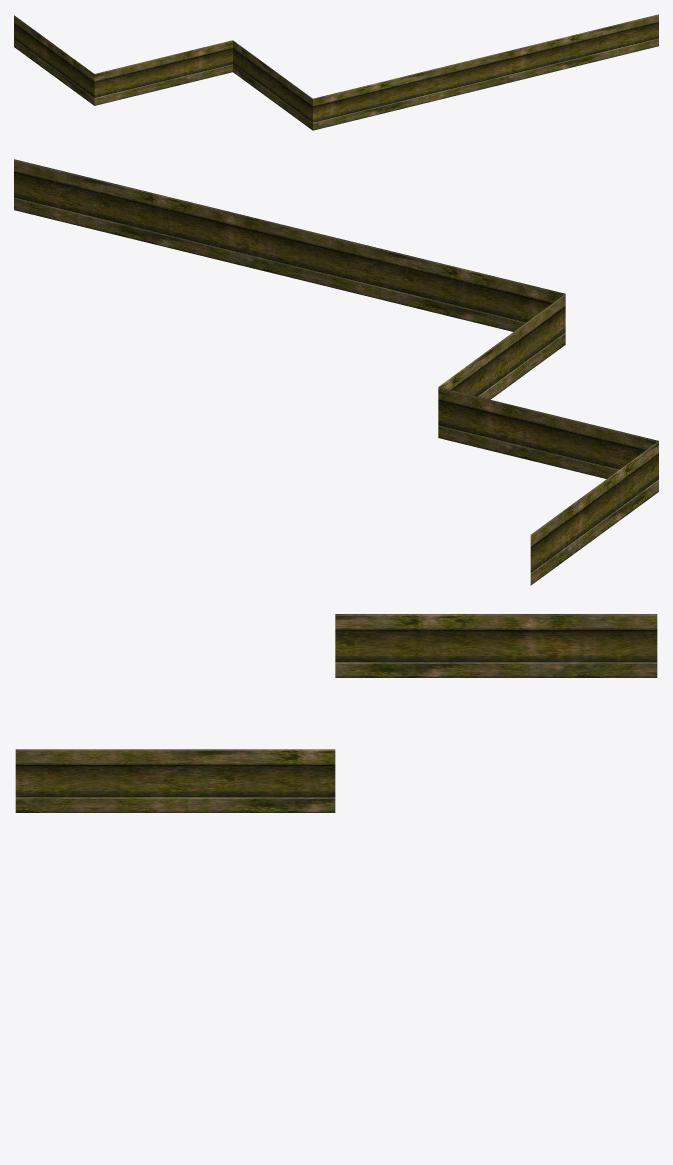
File: OVERHILL_A_01_LINE405.fbx
3 views of the same model, one above another, from view 1: azimuth 30°, elevation 25°; view 2: azimuth 150°, elevation 25°; view 3: azimuth 270°, elevation 25° (orthographic). The views are drawn at different scales.
Parts seen in each view (by area): view 1: OVERHILL_A_01_LINE405; view 2: OVERHILL_A_01_LINE405; view 3: OVERHILL_A_01_LINE405.
Boxes of the visible parts, x1,y1,x2,y2 form: OVERHILL_A_01_LINE405: (14, 14, 658, 130); OVERHILL_A_01_LINE405: (14, 159, 658, 585); OVERHILL_A_01_LINE405: (15, 614, 657, 812).
Bounding box in the file's own units: 70000 × 4416 × 40148.
Materials: 1 (1 with a texture image).
